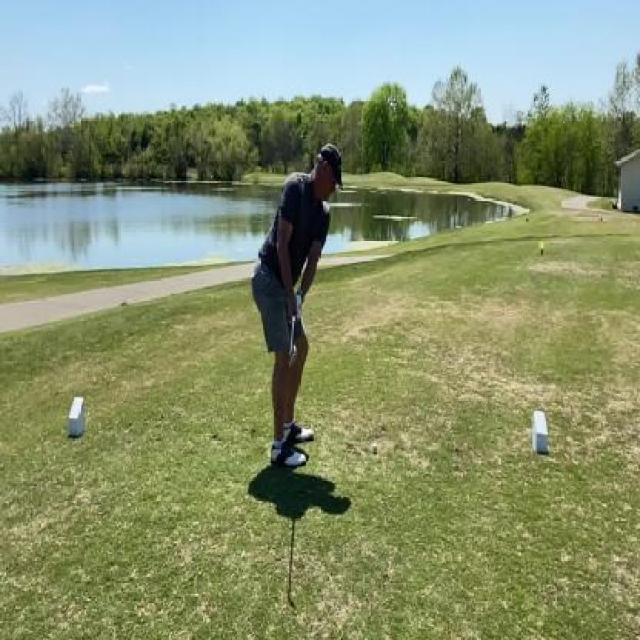club head: (288, 342, 297, 369)
